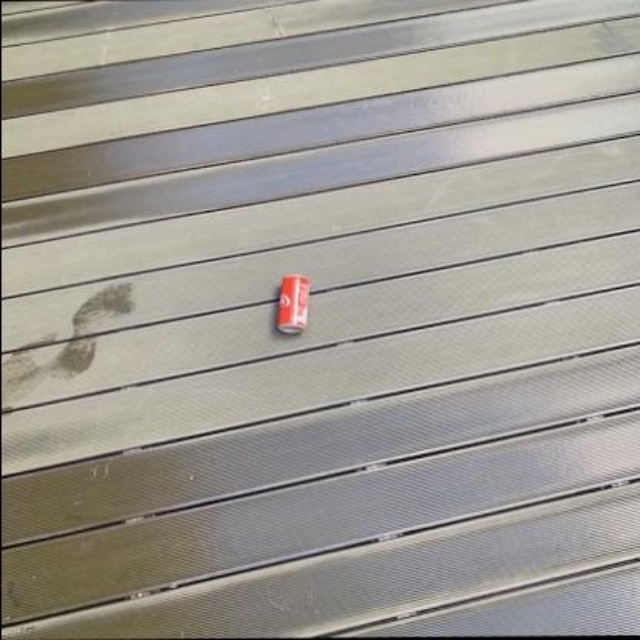trash: (275, 274, 309, 332)
